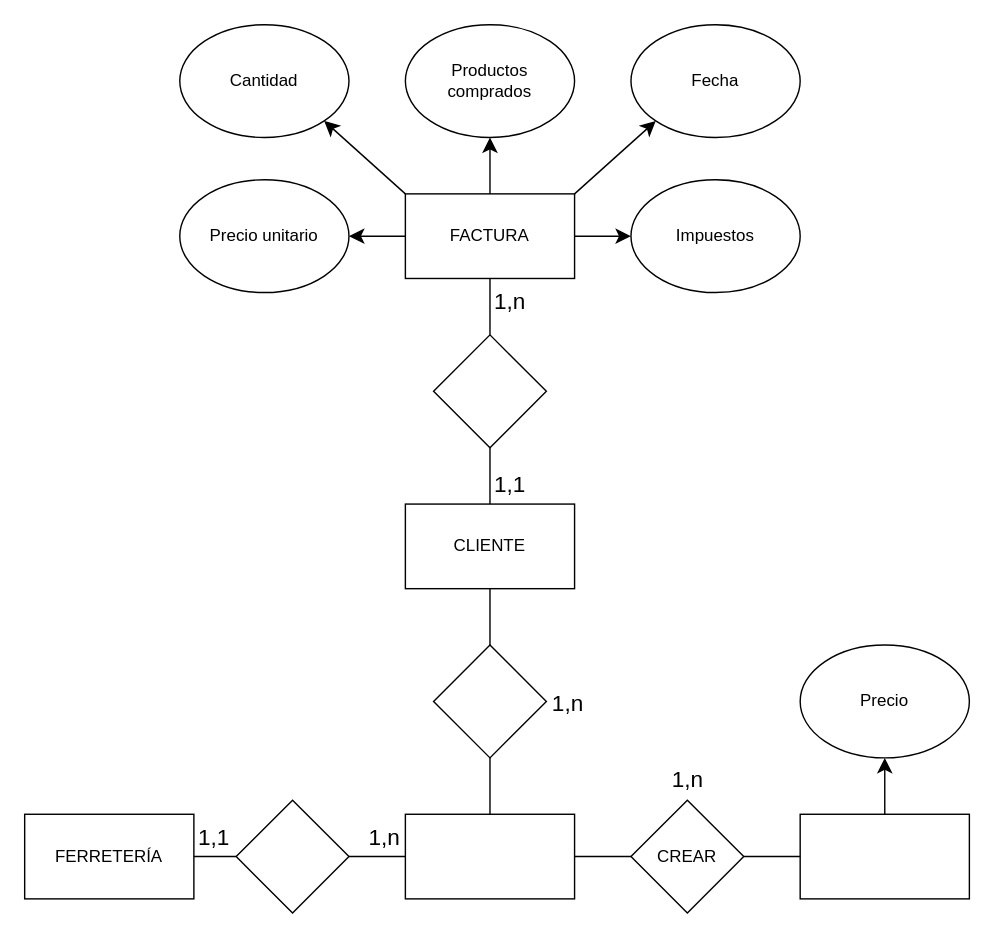
This 994x938 diagram has some shape labels left out. Here are the shapes that lost their labels. From the top down, the centre of each, then its label:
the point at 489,390: GENERAR
the point at 489,701: COMPRAR
the point at 292,856: VENDER
the point at 489,856: PRODUCTOS
the point at 884,856: FABRICANTES
